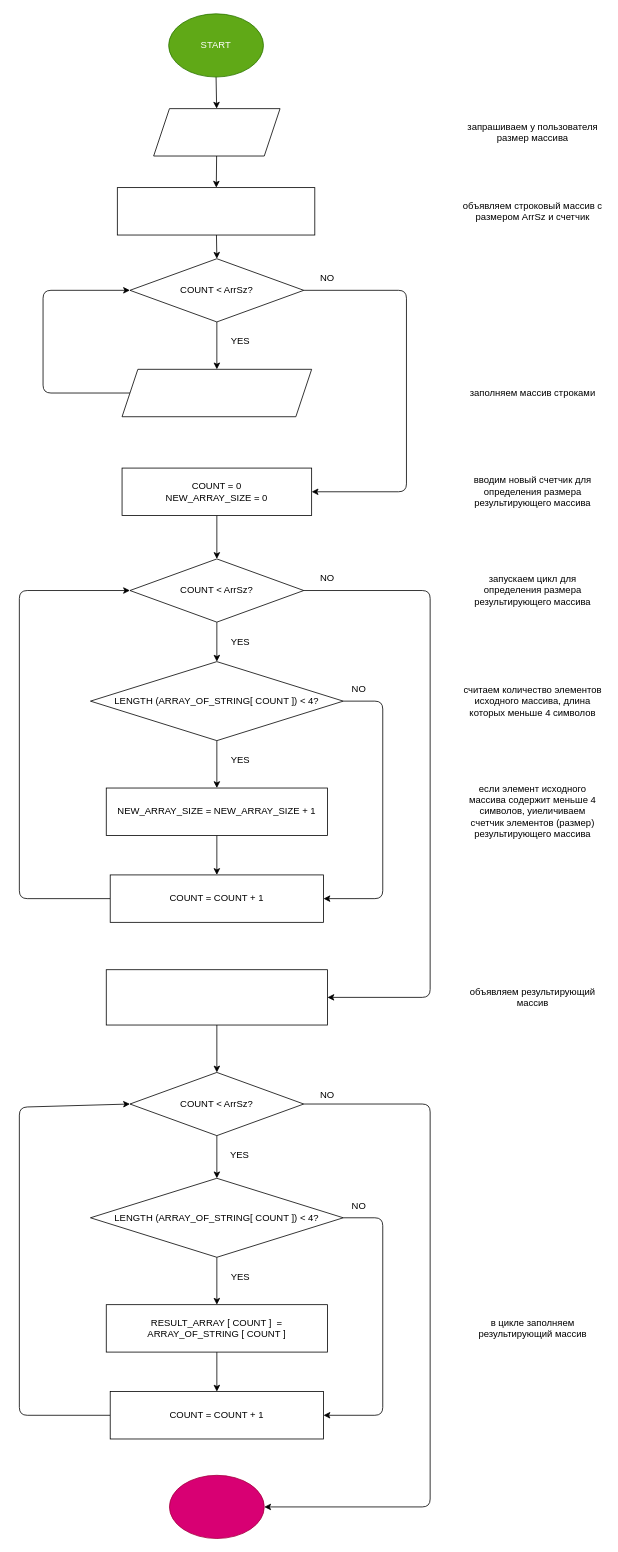
This 618x1552 diagram has some shape labels left out. Here are the shapes that lost their labels. From the top down, the box of each, then its label:
(153, 108, 280, 156): ArrSz = 10
(117, 187, 315, 235): ARRAY_OF_STRING [ ArrSz ] COUNT = 0
(121, 369, 312, 417): ARRAY_OF_STRING [ COUNT ] COUNT = COUNT + 1
(105, 969, 327, 1025): RESULT_ARRAY [ NEW_ARRAY_SIZE ] COUNT = 0
(169, 1475, 264, 1539): FINISH
